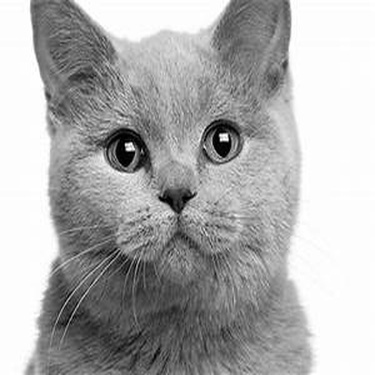cat: (26, 1, 315, 373)
